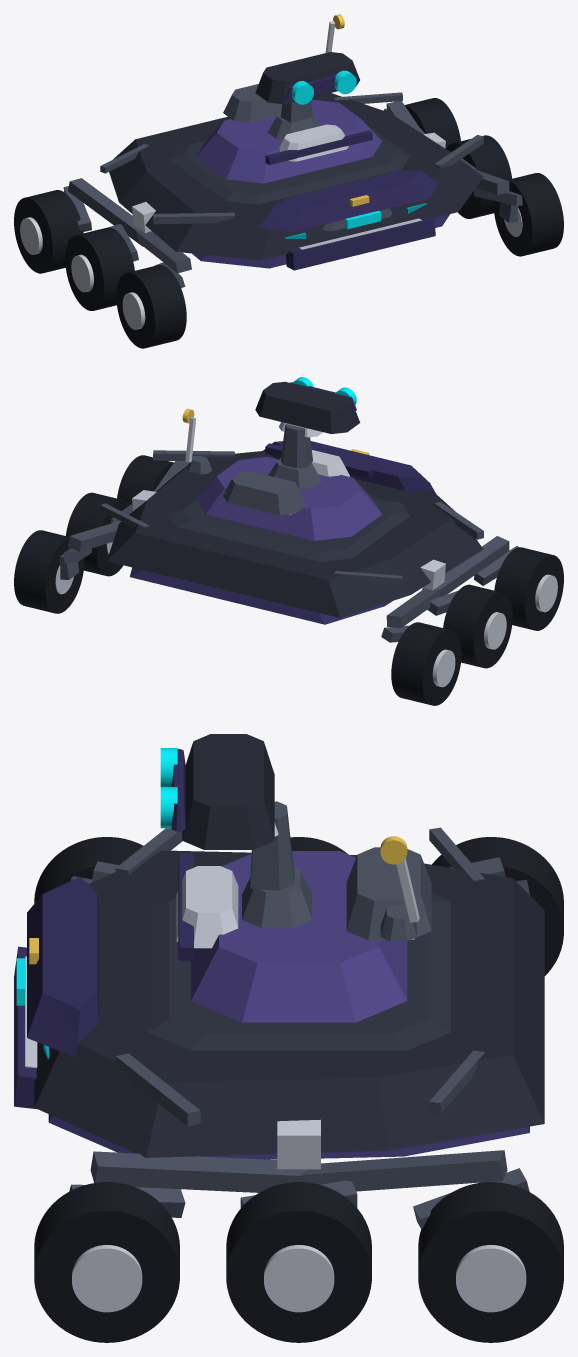
File: kawsay_1.glb
3 renders of one model, top to bottom at view 1: azimuth 30°, elevation 25°; view 2: azimuth 150°, elevation 25°; view 3: azimuth 270°, elevation 25°, orthographic. The views are drawn at different scales.
Parts seen in each view (by area): view 1: faceted_low_wide_chassis_hull, compact_chamfered_apulab_upper_deck, upper_sloped_front_violet_panel, upper_graphite_painted_center_plane, left_front_wheel_tire, right_front_wheel_tire, left_middle_wheel_tire, left_rear_wheel_tire, lower_structural_front_bumper, chamfered_dual_lens_navcam_housing, right_middle_wheel_tire, right_rear_wheel_tire (+25 smaller); view 2: faceted_low_wide_chassis_hull, compact_chamfered_apulab_upper_deck, upper_graphite_painted_center_plane, left_rear_wheel_tire, right_rear_wheel_tire, chamfered_dual_lens_navcam_housing, left_front_wheel_tire, left_middle_wheel_tire, low_rear_power_module, thin_dark_lower_keel, upper_sloped_front_violet_panel, right_middle_wheel_tire (+17 smaller); view 3: faceted_low_wide_chassis_hull, compact_chamfered_apulab_upper_deck, upper_graphite_painted_center_plane, right_front_wheel_tire, right_middle_wheel_tire, right_rear_wheel_tire, upper_sloped_front_violet_panel, chamfered_dual_lens_navcam_housing, right_front_rocker_arm, right_rear_rocker_arm, low_rear_power_module, left_rear_wheel_tire (+19 smaller).
Boxes of the visible parts, left/top/right/bottom form: faceted_low_wide_chassis_hull: left=109, top=93, right=483, bottom=260; compact_chamfered_apulab_upper_deck: left=196, top=99, right=381, bottom=183; upper_sloped_front_violet_panel: left=259, top=170, right=437, bottom=231; upper_graphite_painted_center_plane: left=168, top=124, right=409, bottom=204; left_front_wheel_tire: left=116, top=265, right=186, bottom=348; right_front_wheel_tire: left=493, top=173, right=563, bottom=256; left_middle_wheel_tire: left=65, top=227, right=134, bottom=310; left_rear_wheel_tire: left=14, top=190, right=83, bottom=273; lower_structural_front_bumper: left=285, top=216, right=435, bottom=270; chamfered_dual_lens_navcam_housing: left=255, top=52, right=359, bottom=104; right_middle_wheel_tire: left=446, top=135, right=511, bottom=218; right_rear_wheel_tire: left=404, top=98, right=460, bottom=148; faceted_low_wide_chassis_hull: left=107, top=451, right=483, bottom=617; compact_chamfered_apulab_upper_deck: left=196, top=457, right=381, bottom=540; upper_graphite_painted_center_plane: left=168, top=482, right=409, bottom=561; left_rear_wheel_tire: left=391, top=622, right=461, bottom=705; right_rear_wheel_tire: left=14, top=530, right=84, bottom=613; chamfered_dual_lens_navcam_housing: left=255, top=381, right=360, bottom=433; left_front_wheel_tire: left=494, top=547, right=563, bottom=630; left_middle_wheel_tire: left=443, top=584, right=512, bottom=668; low_rear_power_module: left=223, top=471, right=306, bottom=515; thin_dark_lower_keel: left=130, top=567, right=392, bottom=624; upper_sloped_front_violet_panel: left=263, top=441, right=437, bottom=496; right_middle_wheel_tire: left=66, top=492, right=130, bottom=576; faceted_low_wide_chassis_hull: left=34, top=850, right=544, bottom=1157; compact_chamfered_apulab_upper_deck: left=191, top=851, right=407, bottom=1022; upper_graphite_painted_center_plane: left=147, top=888, right=450, bottom=1050; right_front_wheel_tire: left=34, top=1182, right=179, bottom=1342; right_middle_wheel_tire: left=226, top=1182, right=371, bottom=1342; right_rear_wheel_tire: left=418, top=1182, right=563, bottom=1342; upper_sloped_front_violet_panel: left=27, top=876, right=98, bottom=1057; chamfered_dual_lens_navcam_housing: left=182, top=734, right=274, bottom=849; right_front_rocker_arm: left=90, top=1151, right=307, bottom=1192; right_rear_rocker_arm: left=300, top=1150, right=507, bottom=1191; low_rear_power_module: left=346, top=847, right=431, bottom=940; left_rear_wheel_tire: left=432, top=837, right=563, bottom=975.
Bounding box in the file's own units: 0.742 × 0.351 × 0.4526.
